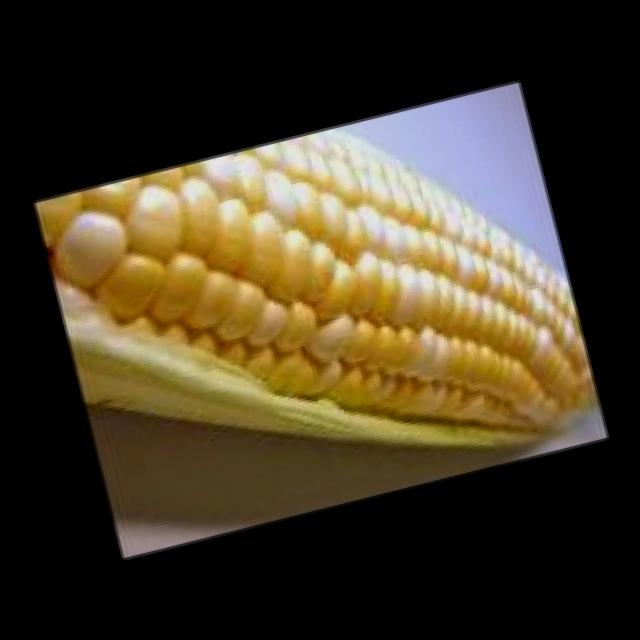corn: (32, 130, 599, 454)
